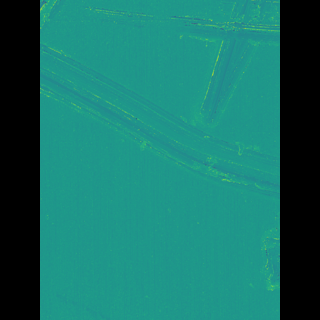Loch: (70, 43, 250, 202), (182, 0, 250, 130), (101, 2, 250, 45), (233, 212, 250, 299)
